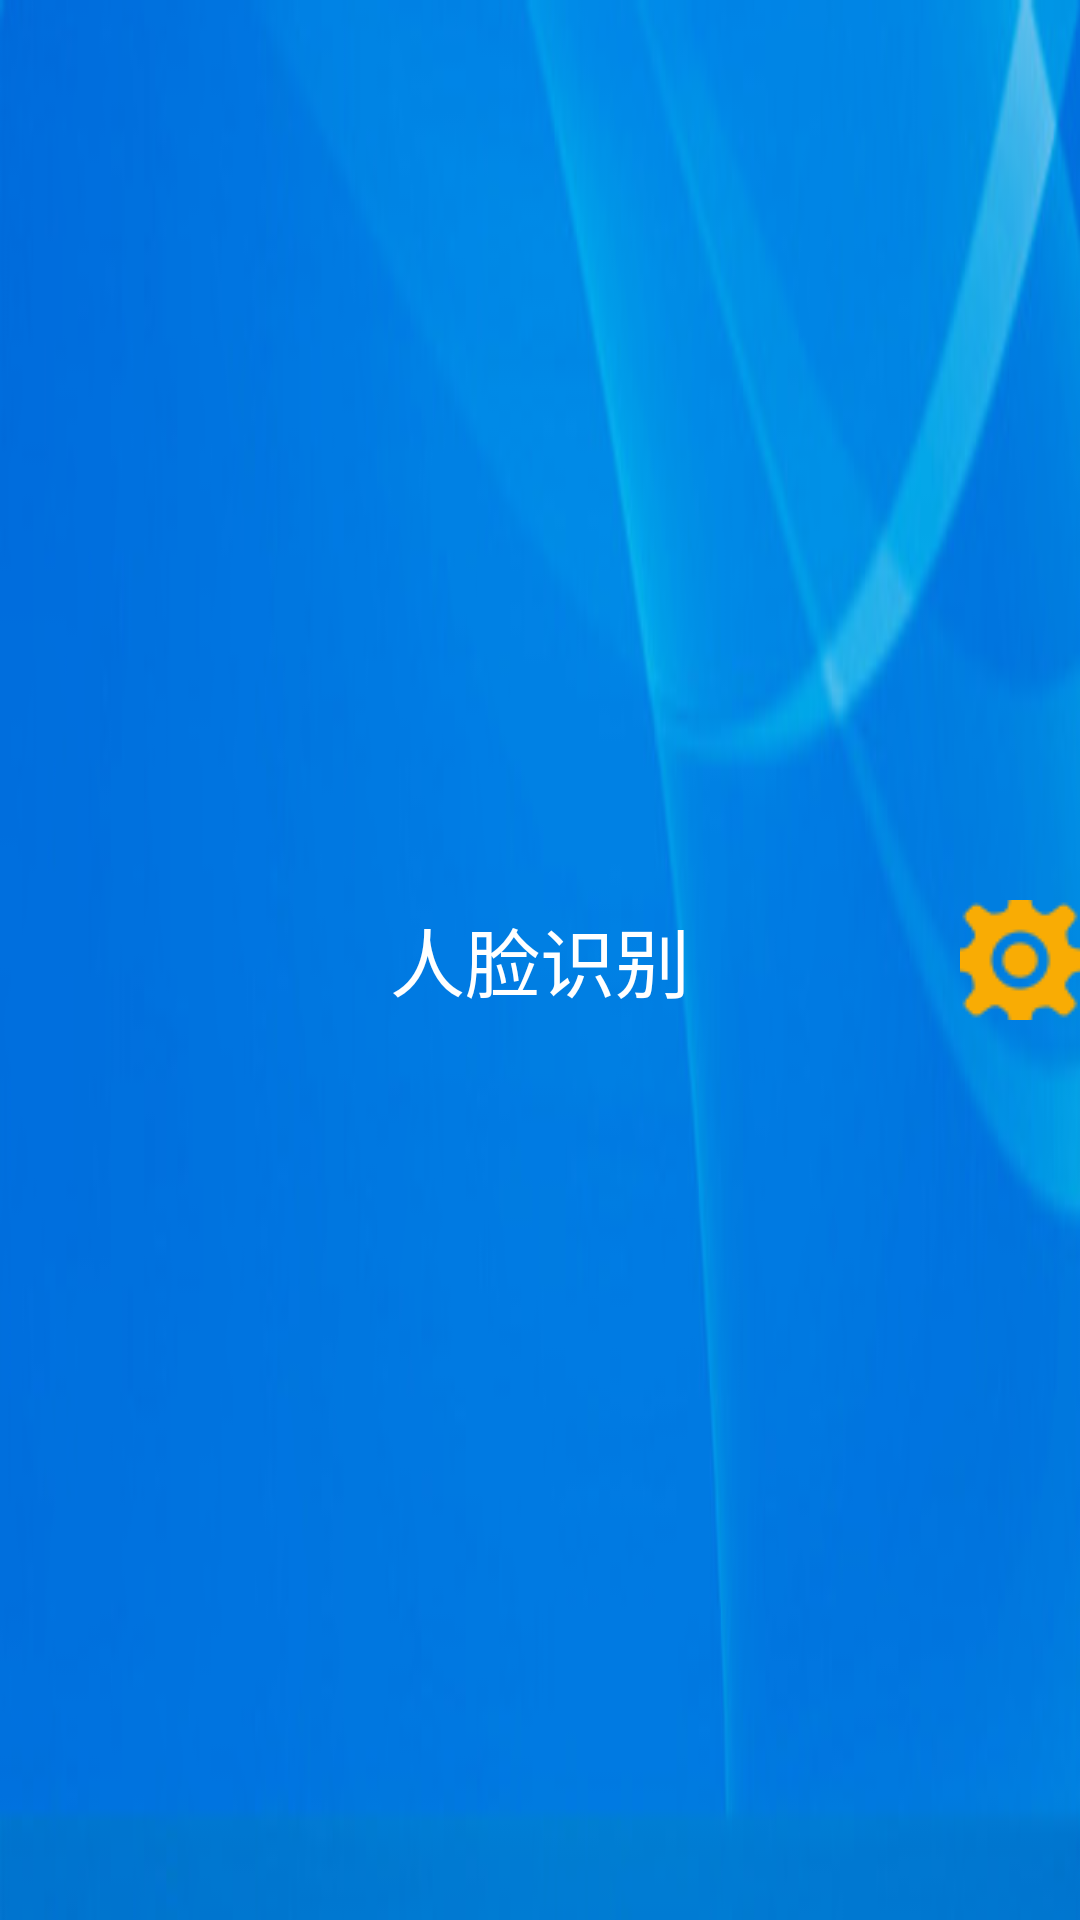

Screen size 1080 x 1920. Icon name, then its box in pixels as (x1, y1, x2, y2):
bar setting: (960, 900, 1080, 1020)
